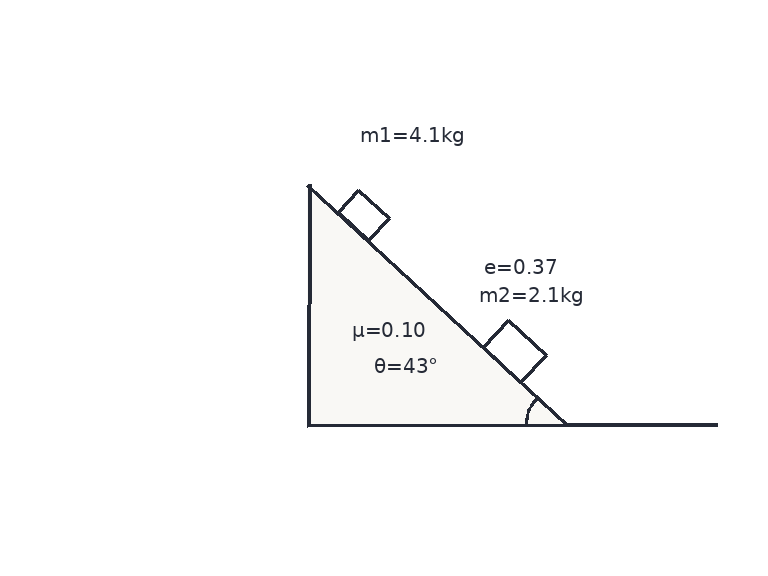block: (481, 318, 548, 384), (336, 188, 391, 243)
ramp: (306, 182, 568, 427)
